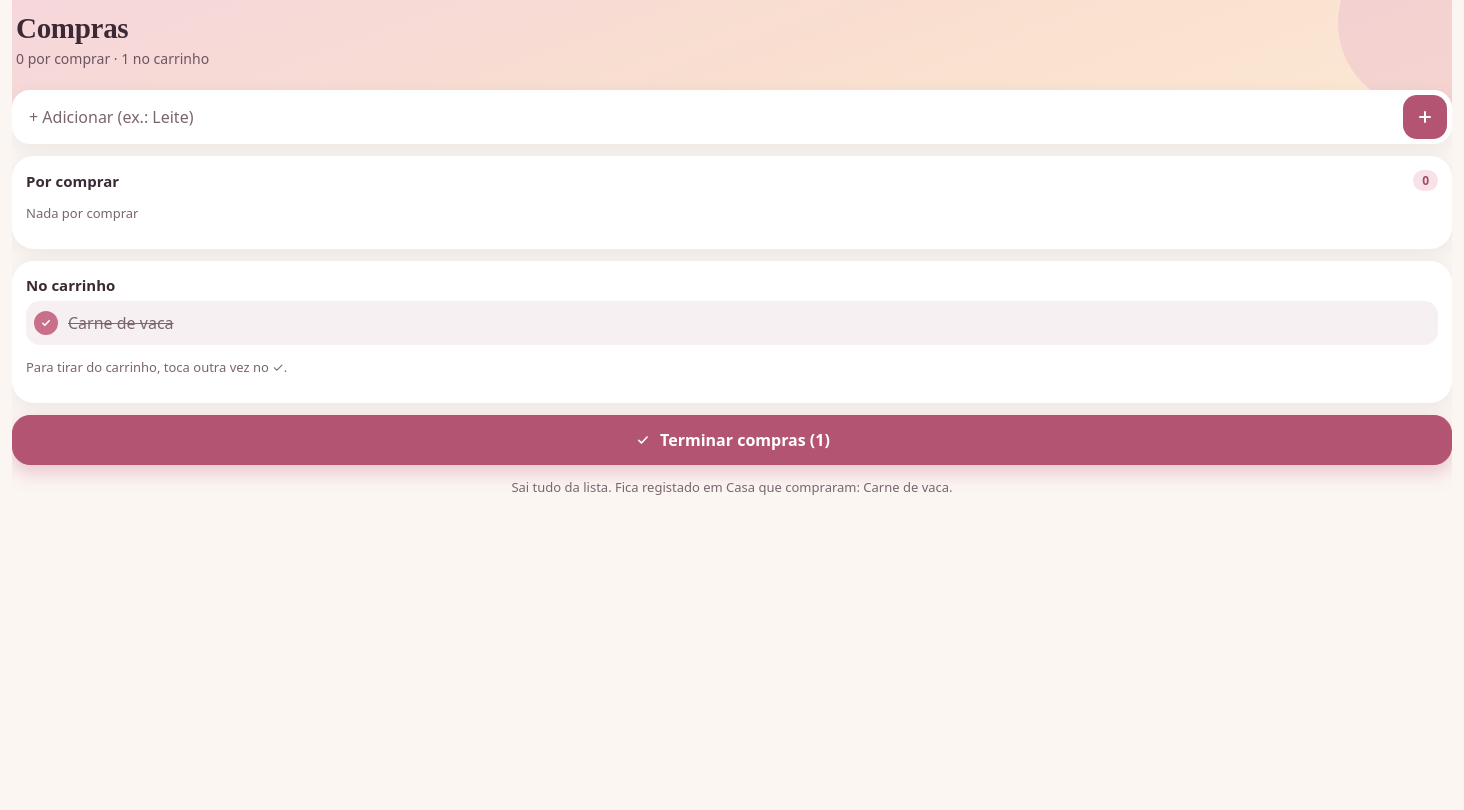
it: finishing with Congelador products asks what went to the freezer, then how much it was
The width and height of the screenshot is (1464, 810).
Click the button "Terminar compras (1)". click: (732,440)
box: x1=12 y1=415 x2=1452 y2=465
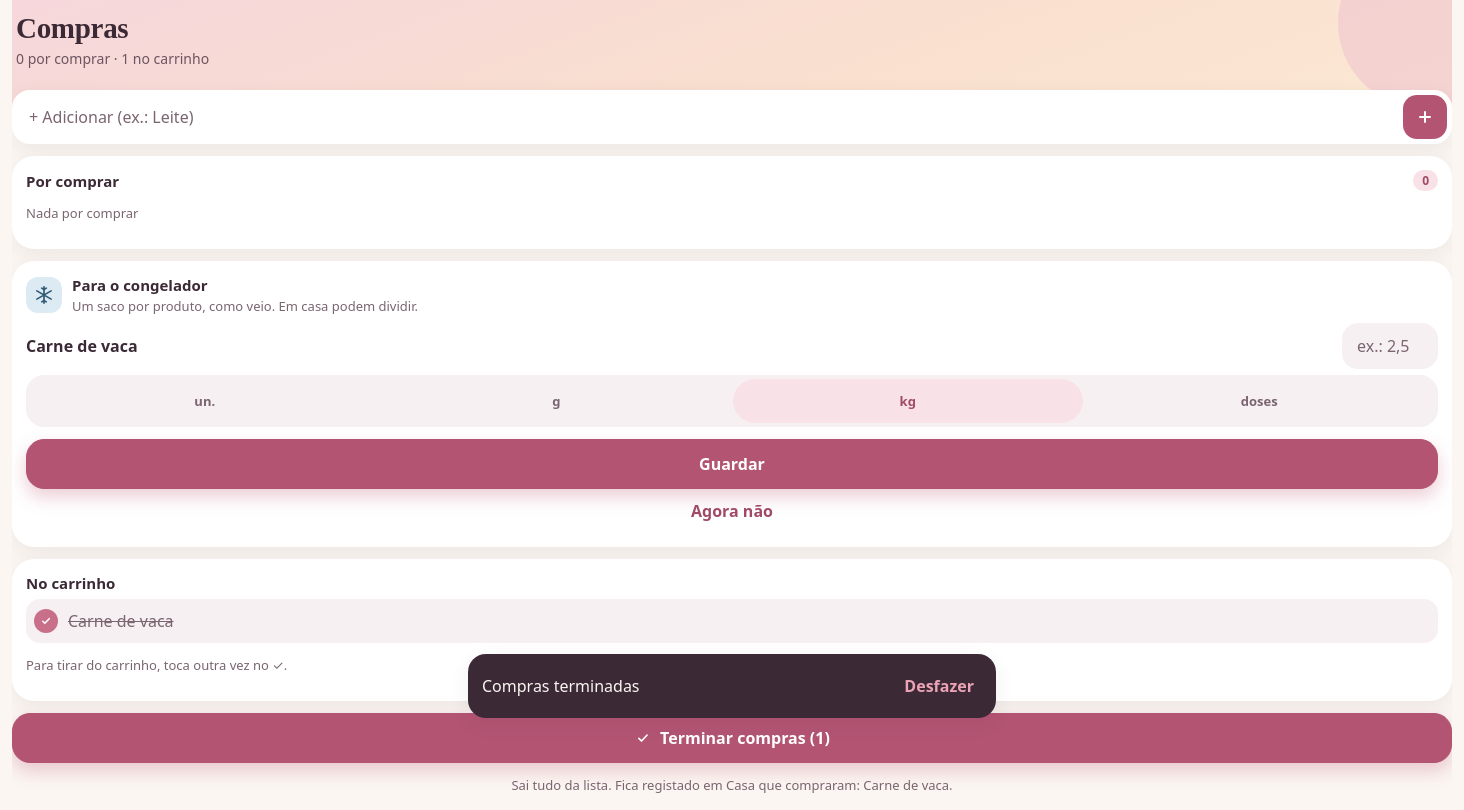
Expected: the text "Quanto foi" is not shown
Now the heading "Para o congelador" is shown, box x1=72 y1=275 x2=208 y2=295
Type "5" into the field named "Quantidade de Carne de vaca". click: (1390,346)
box: x1=1342 y1=323 x2=1438 y2=369
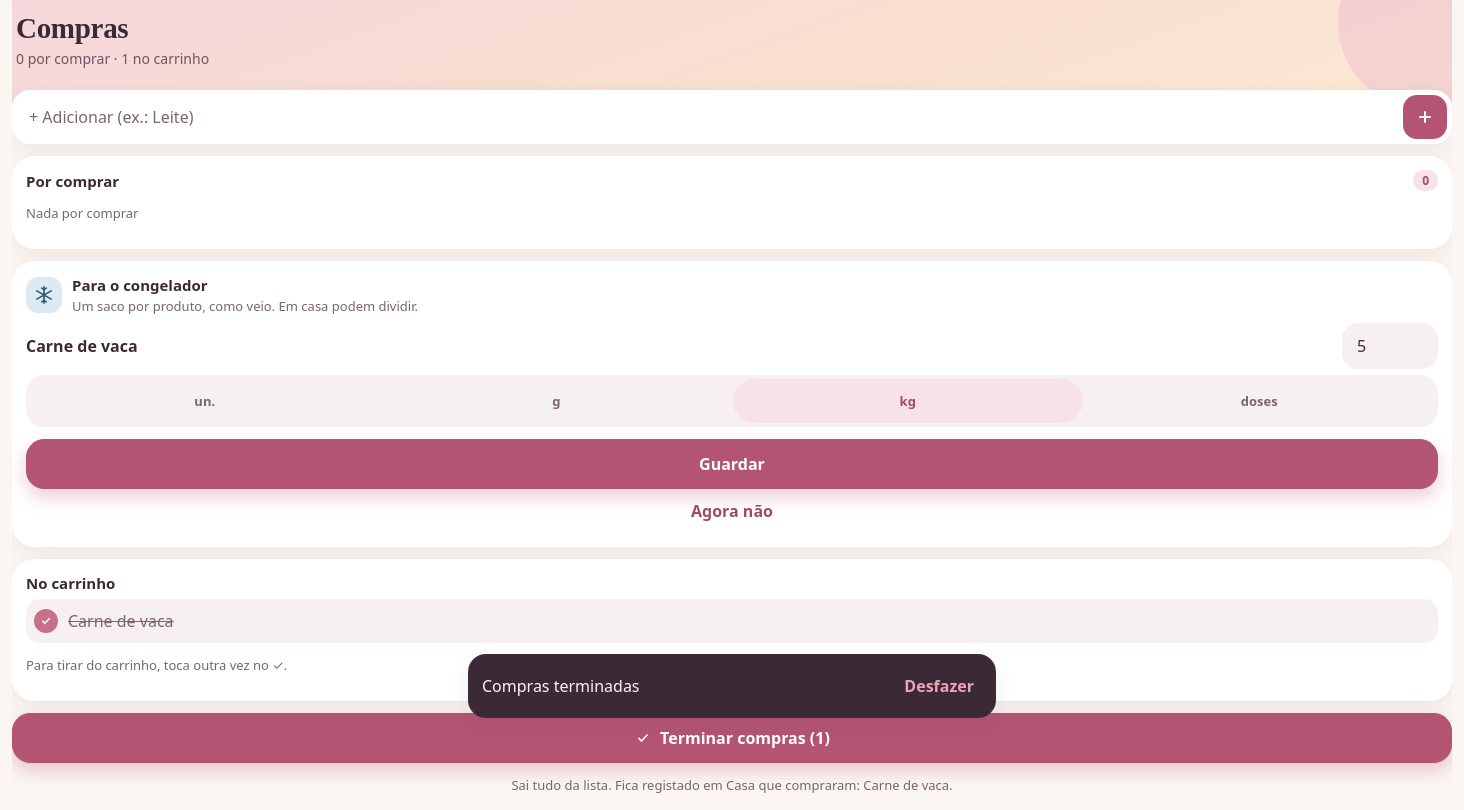
Click the button "Guardar". click: (732,464)
box: x1=26 y1=439 x2=1438 y2=489
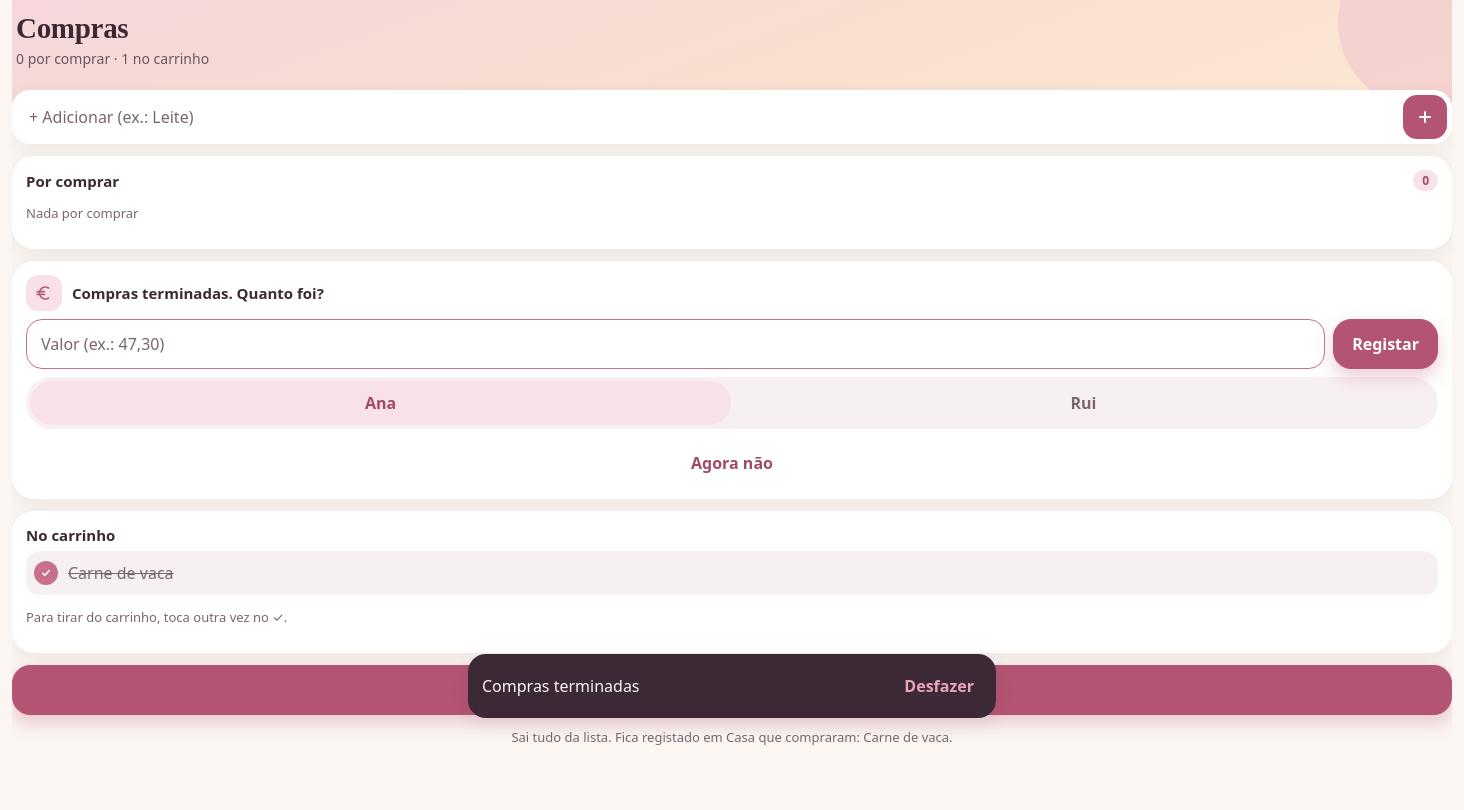
Now the heading "Para o congelador" is gone
Now the heading "Compras terminadas. Quanto foi?" is shown, box x1=72 y1=283 x2=324 y2=303
